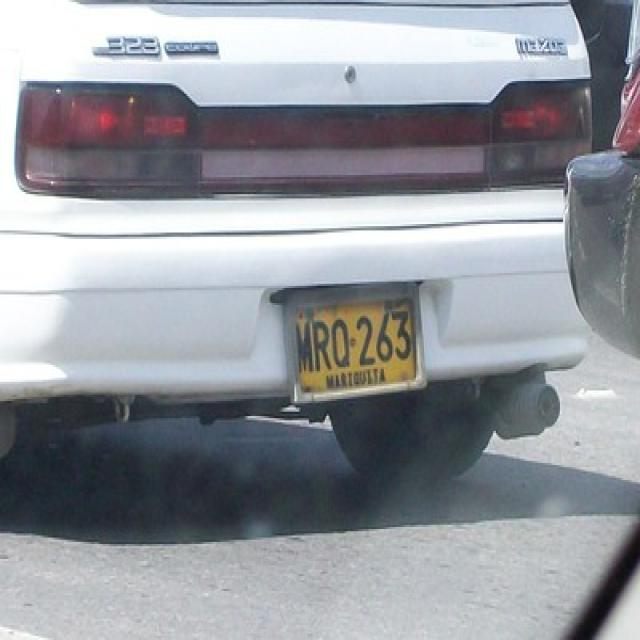placa_carro: (276, 283, 438, 415)
